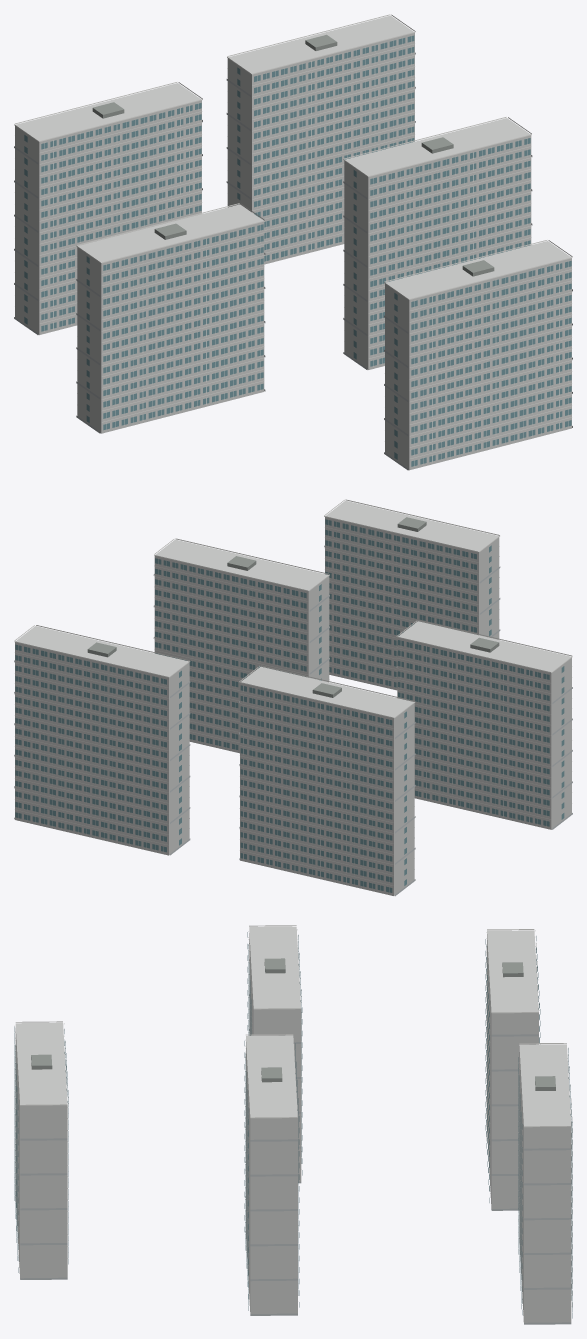
File: representative-a13007004.glb
3 renders of one model, top to bottom at view 1: azimuth 30°, elevation 25°; view 2: azimuth 150°, elevation 25°; view 3: azimuth 270°, elevation 25°, orthographic. The views are drawn at different scales.
Parts seen in each view (by area): view 1: A13007004_wall001, A13007004_glass001, A13007004_trim001, A13007004_roof001, A13007004_accent001; view 2: A13007004_wall001, A13007004_glass001, A13007004_trim001, A13007004_roof001, A13007004_accent001; view 3: A13007004_wall001, A13007004_glass001, A13007004_accent001, A13007004_roof001, A13007004_trim001.
Boxes of the visible parts, bbox=[...] form: A13007004_wall001: bbox=[15, 15, 571, 470]; A13007004_glass001: bbox=[24, 35, 571, 466]; A13007004_trim001: bbox=[14, 14, 572, 466]; A13007004_roof001: bbox=[92, 34, 494, 276]; A13007004_accent001: bbox=[14, 52, 572, 470]; A13007004_wall001: bbox=[15, 500, 571, 895]; A13007004_glass001: bbox=[15, 519, 564, 892]; A13007004_trim001: bbox=[14, 499, 572, 892]; A13007004_roof001: bbox=[87, 517, 499, 697]; A13007004_accent001: bbox=[14, 545, 572, 896]; A13007004_wall001: bbox=[15, 926, 571, 1322]; A13007004_glass001: bbox=[14, 932, 572, 1318]; A13007004_accent001: bbox=[20, 959, 571, 1324]; A13007004_roof001: bbox=[31, 958, 555, 1090]; A13007004_trim001: bbox=[14, 925, 572, 1306].
Bounding box in the file's own units: 124 × 52 × 131.
